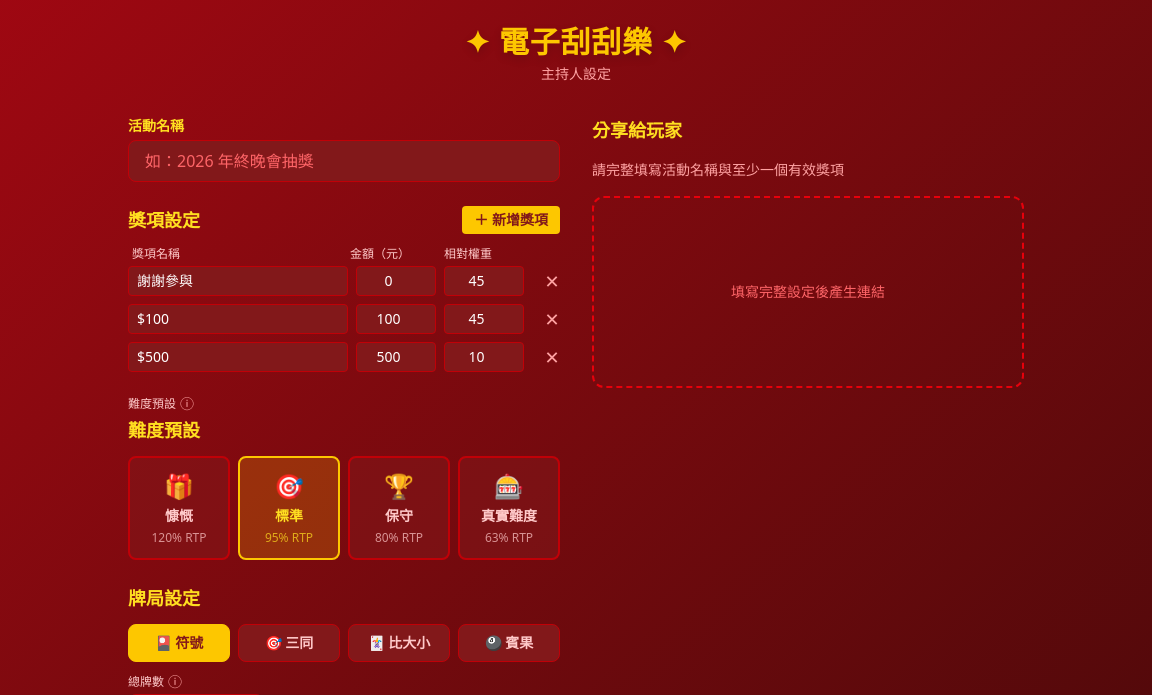
Test: HostPage › 點擊總牌數旁 ⓘ 後應顯示說明文字
Click the button named "說明" at (187, 404), box [180,397,194,411]
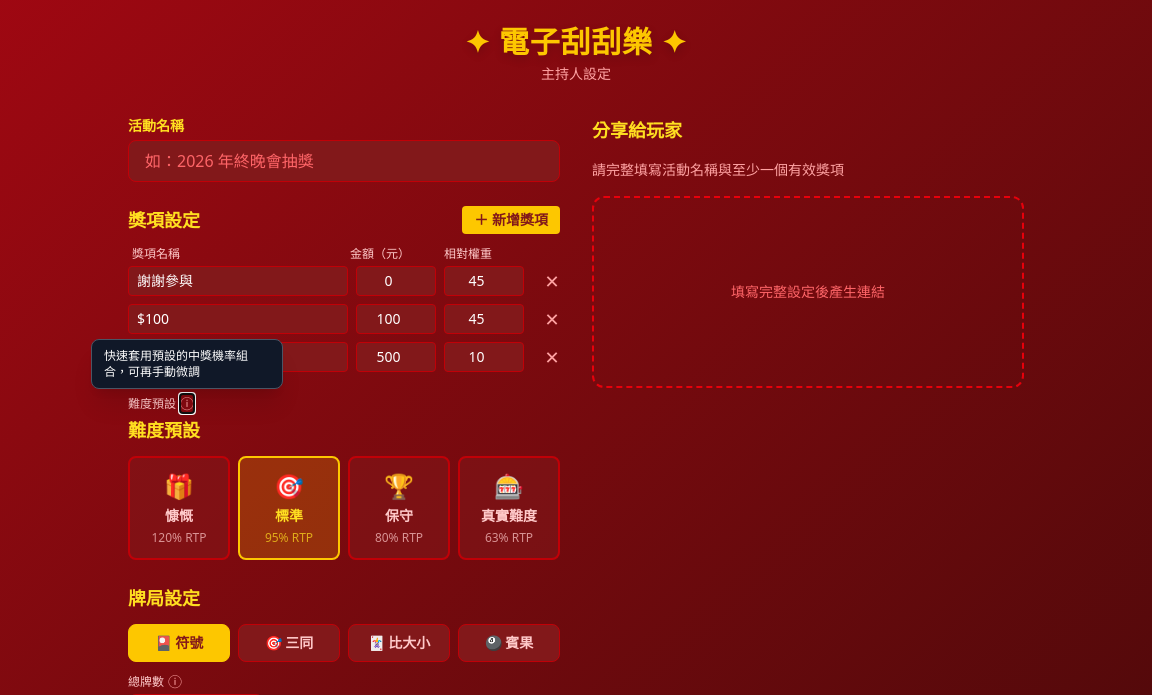
Expected: the tooltip "快速套用預設的中獎機率組合，可再手動微調" is shown, [91,339,283,389]
